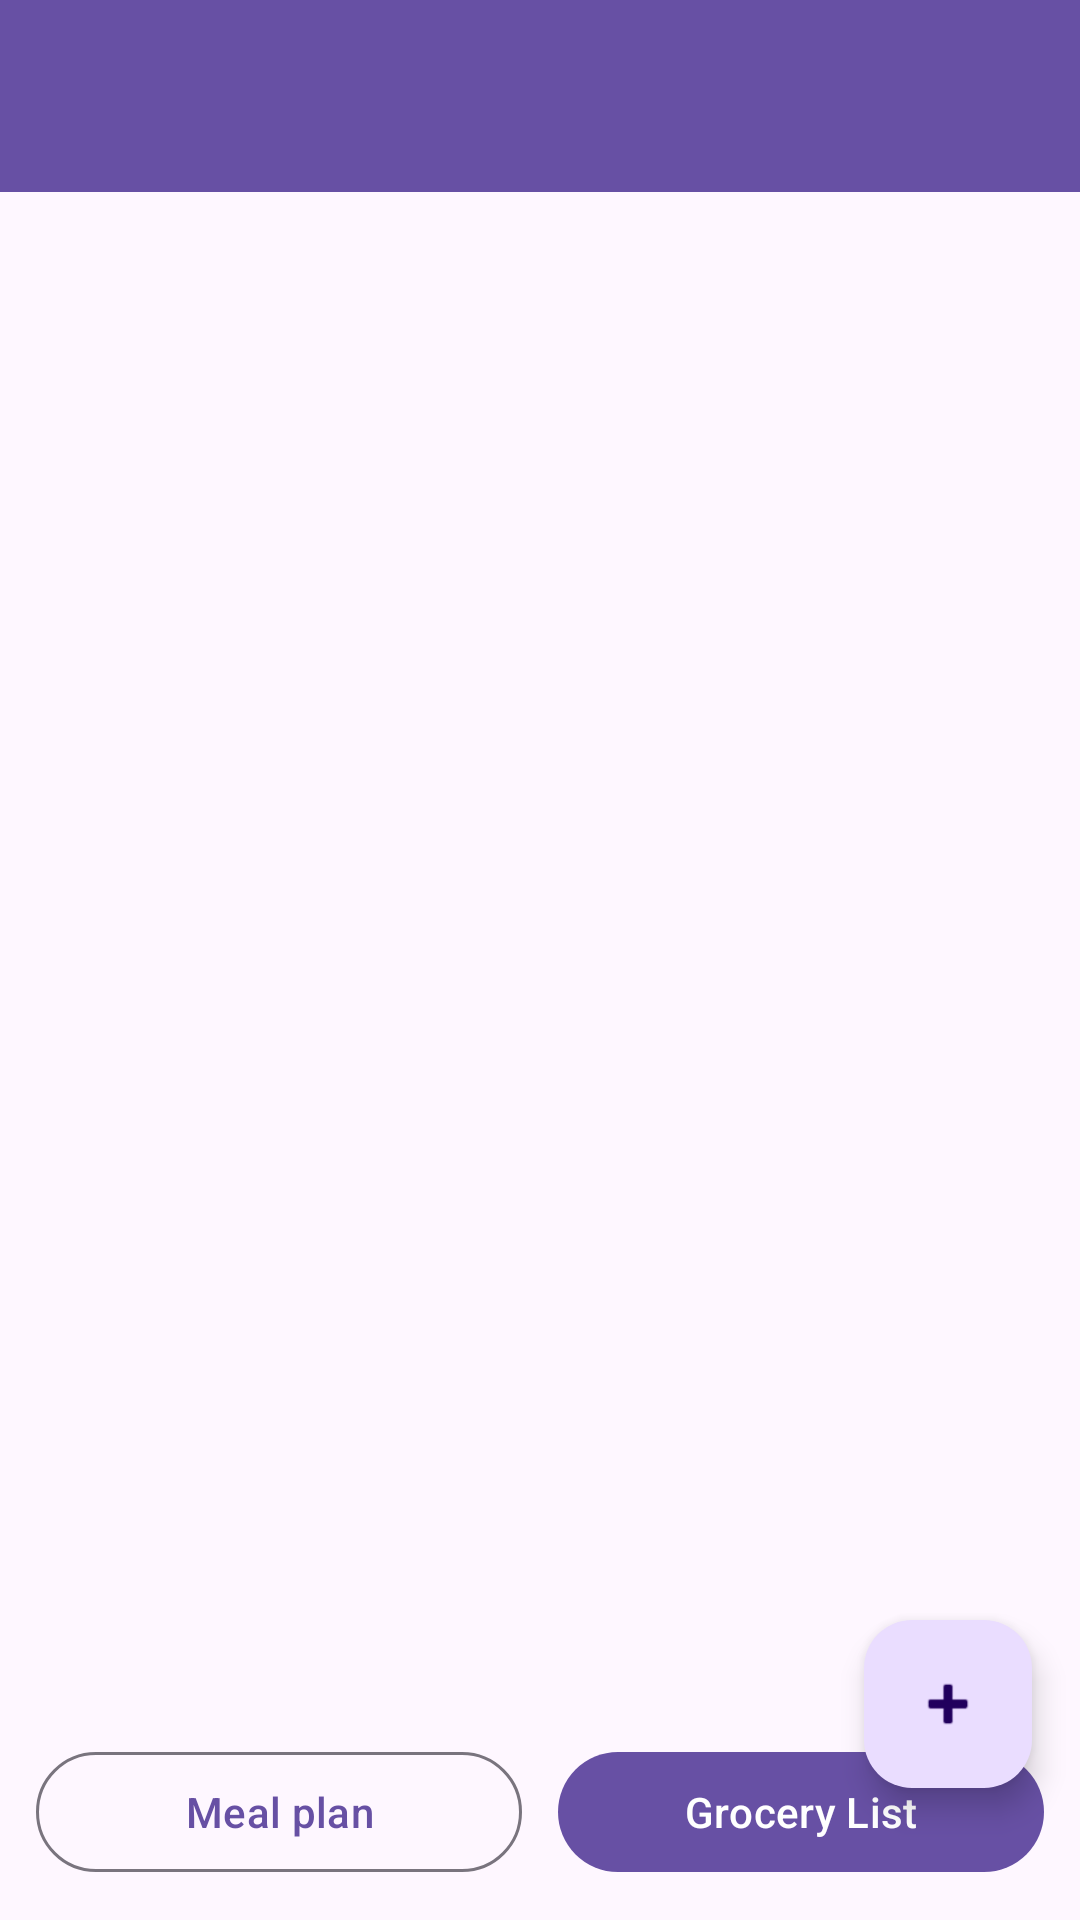

Icon click points for this 1080*1920 phone screenshot, format point (x, y):
Add: point (948, 1704)
